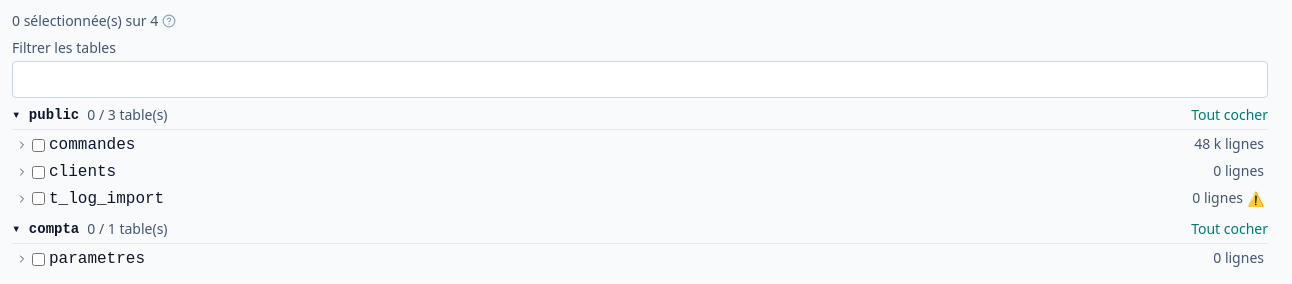
Test: TableTree › garde le compte visible schéma replié
Click the button "▾ public".
click(46, 116)  # box [12,106,79,125]
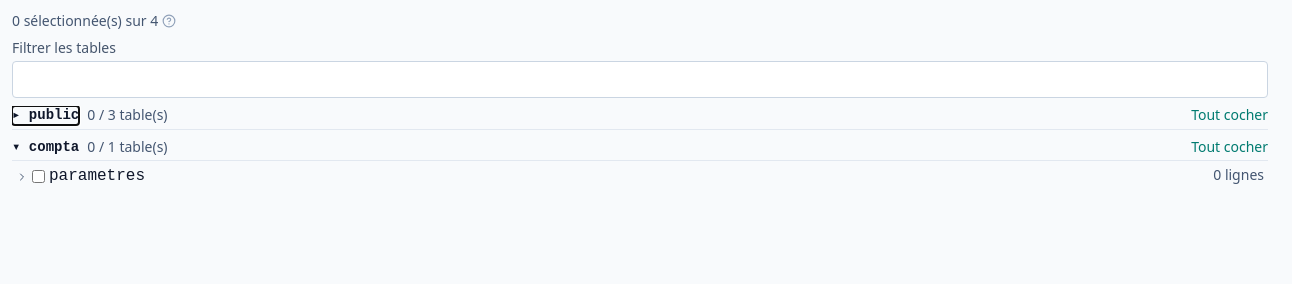
Expected: the text "0 / 3 table(s)" is shown, [87,106,168,125]
Expected: the button "commandes" is gone
